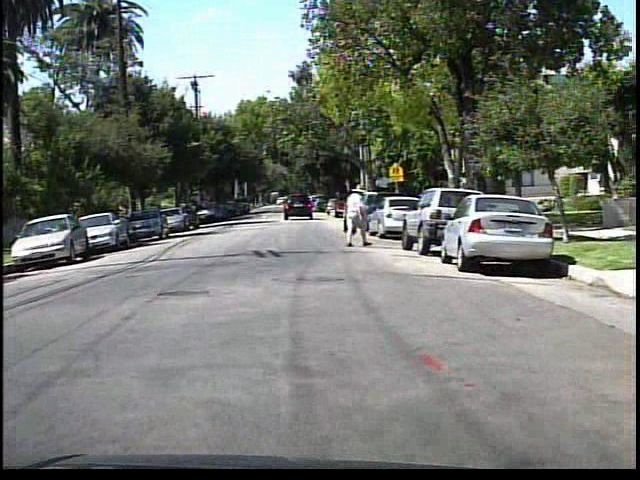person: (339, 184, 375, 249)
